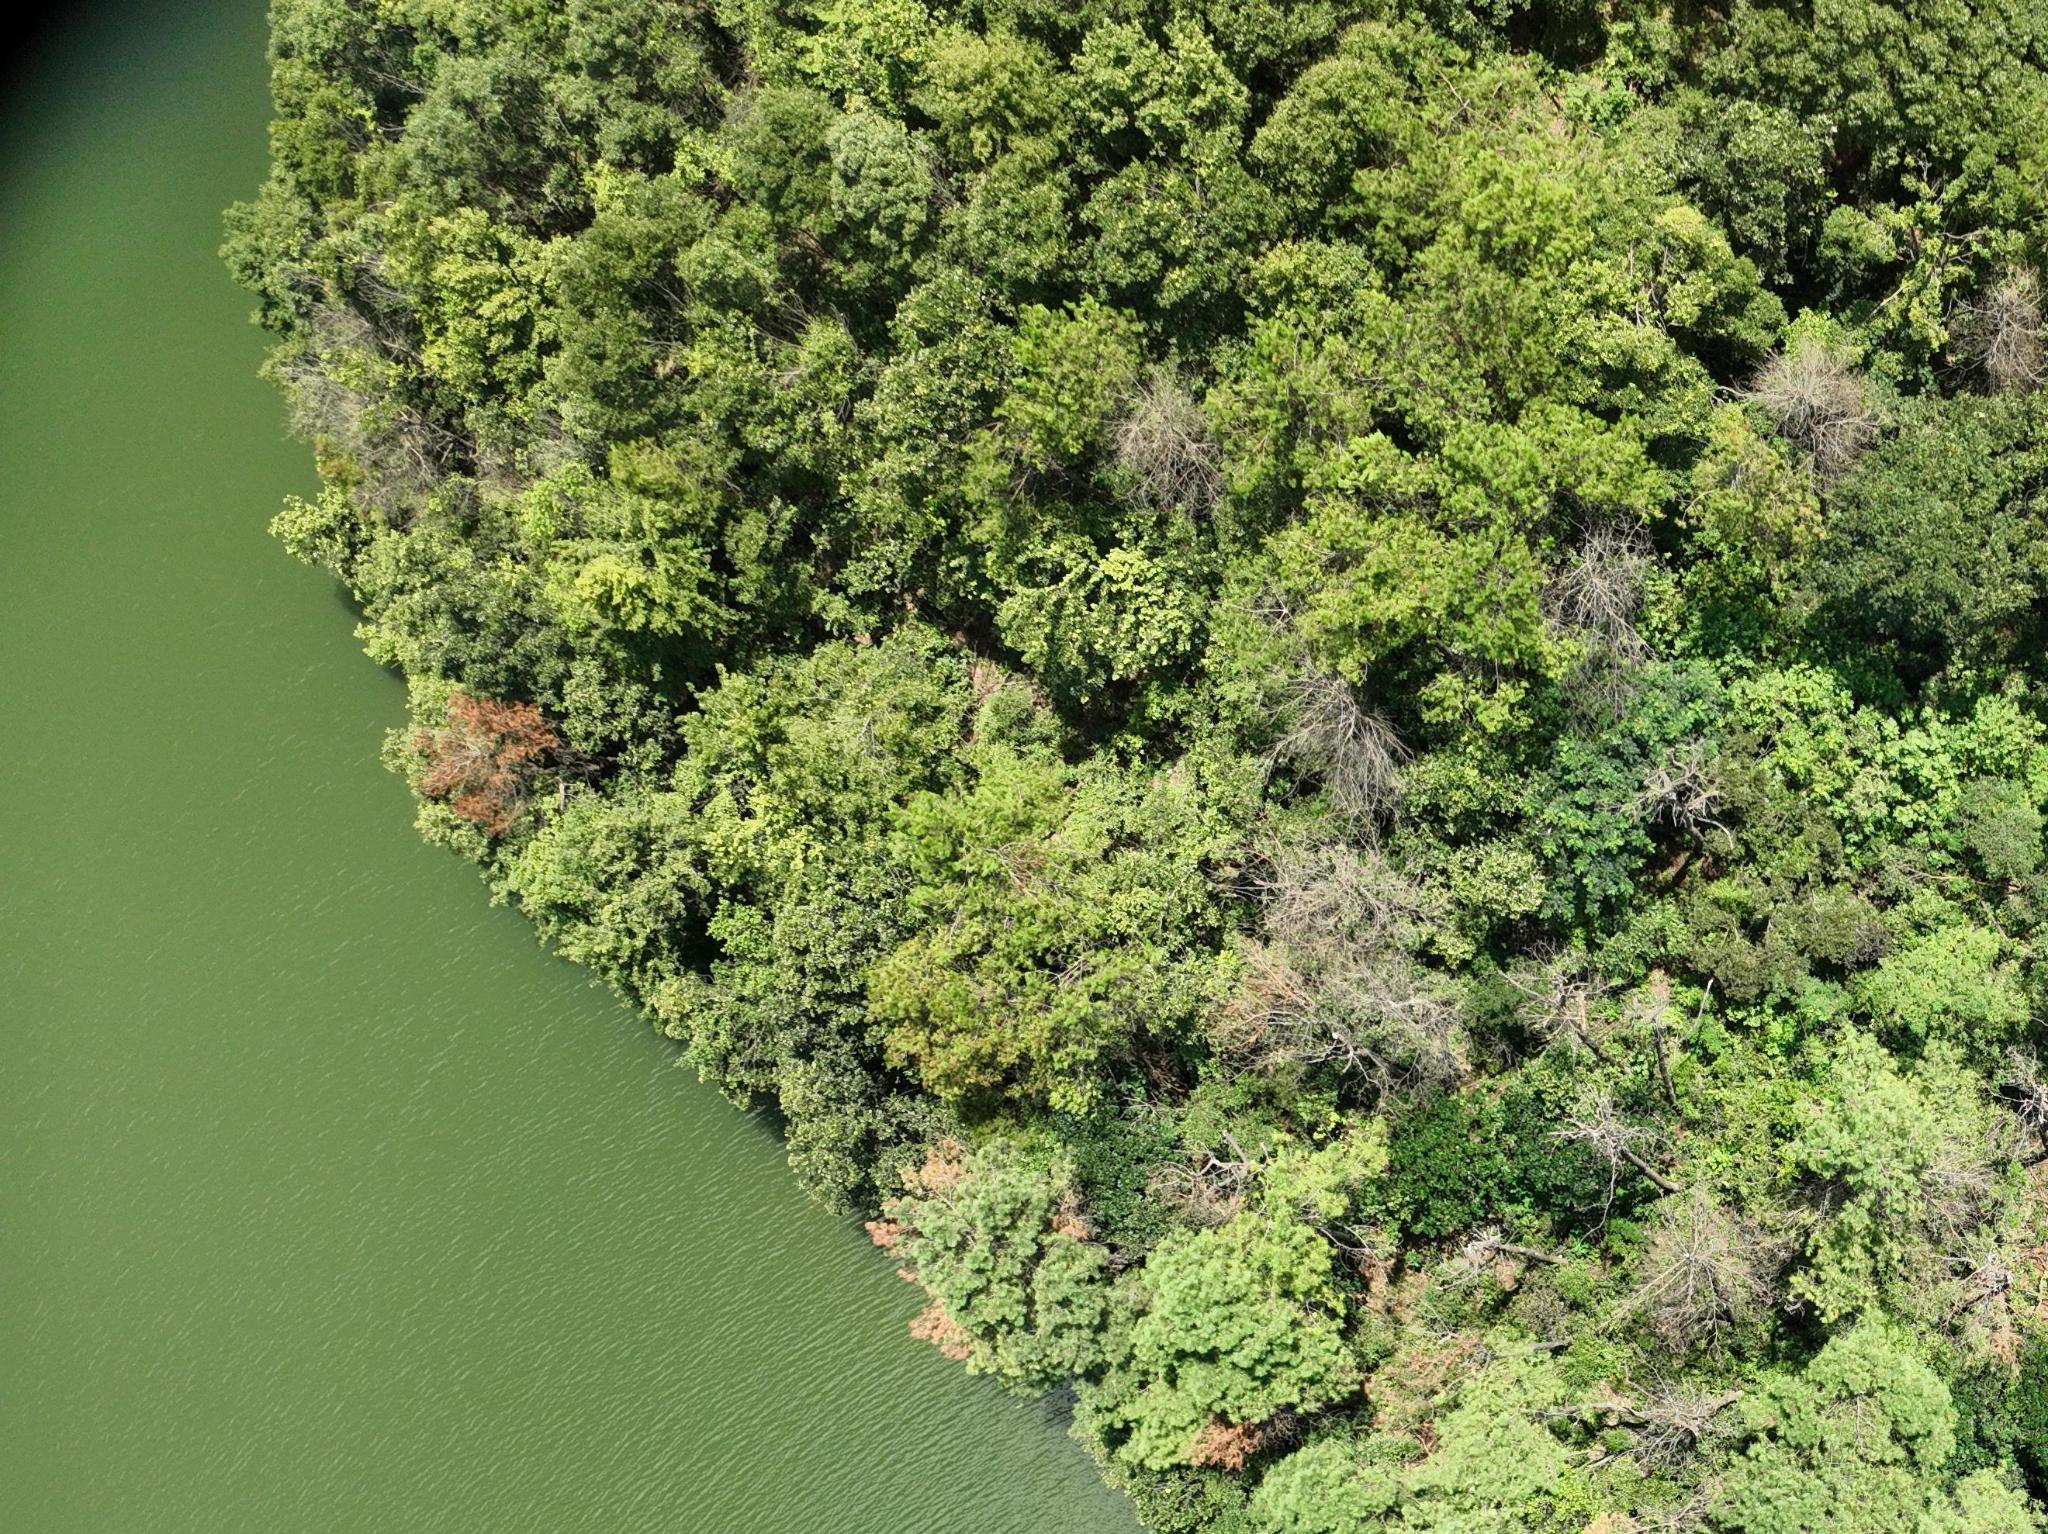dead: (1236, 899, 1447, 1083), (1634, 1212, 1769, 1349), (1273, 669, 1397, 801), (1545, 525, 1655, 674), (1748, 348, 1874, 472), (1110, 387, 1223, 500), (1964, 276, 2043, 390)
heavy: (870, 1134, 968, 1368), (416, 688, 559, 830), (1196, 1423, 1263, 1474)
